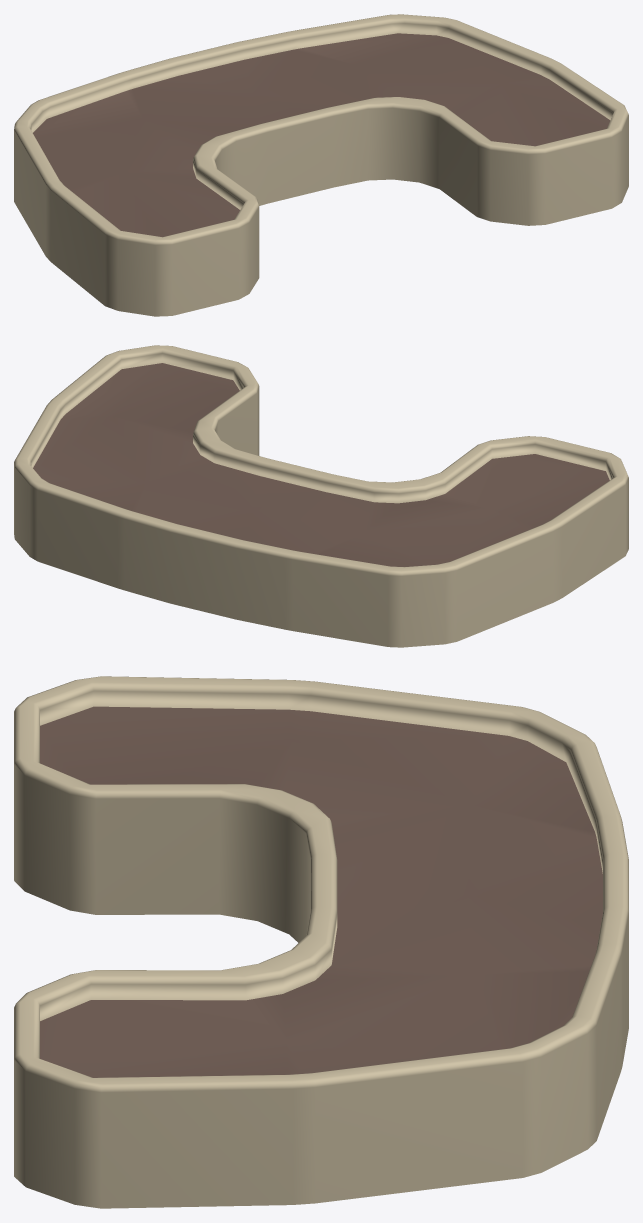
File: GardenBed-Prototype 1.fbx
3 views of the same model, one above another, from view 1: azimuth 30°, elevation 25°; view 2: azimuth 150°, elevation 25°; view 3: azimuth 270°, elevation 25° (orthographic). The views are drawn at different scales.
Parts seen in each view (by area): view 1: GardenBed_Enhanced; view 2: GardenBed_Enhanced; view 3: GardenBed_Enhanced.
Part boxes in pixels (x1,y1,x2,y2): GardenBed_Enhanced: [14, 14, 628, 316]; GardenBed_Enhanced: [14, 345, 628, 647]; GardenBed_Enhanced: [14, 676, 628, 1208].
Size of the model in its own units: 706 by 97.16 by 444.
